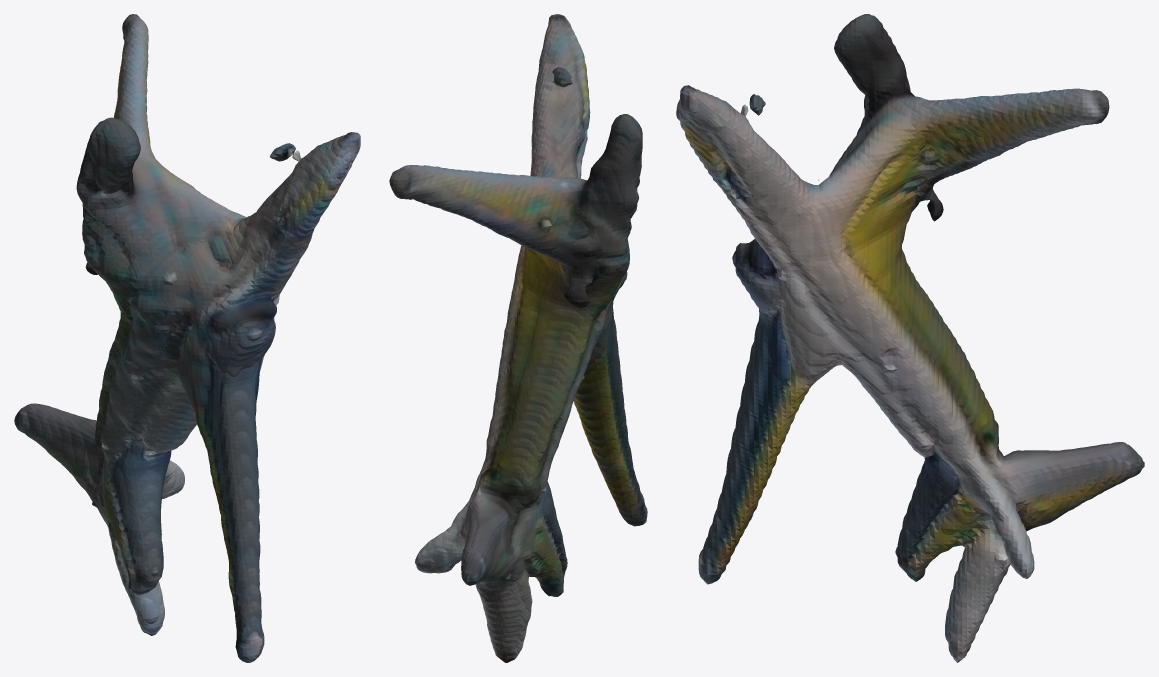
3 views of the same model, side by side, from view 1: azimuth 30°, elevation 25°; view 2: azimuth 150°, elevation 25°; view 3: azimuth 270°, elevation 25° (orthographic). The views are drawn at different scales.
Size of the model in its own units: 0.341 by 0.9953 by 0.6911.
